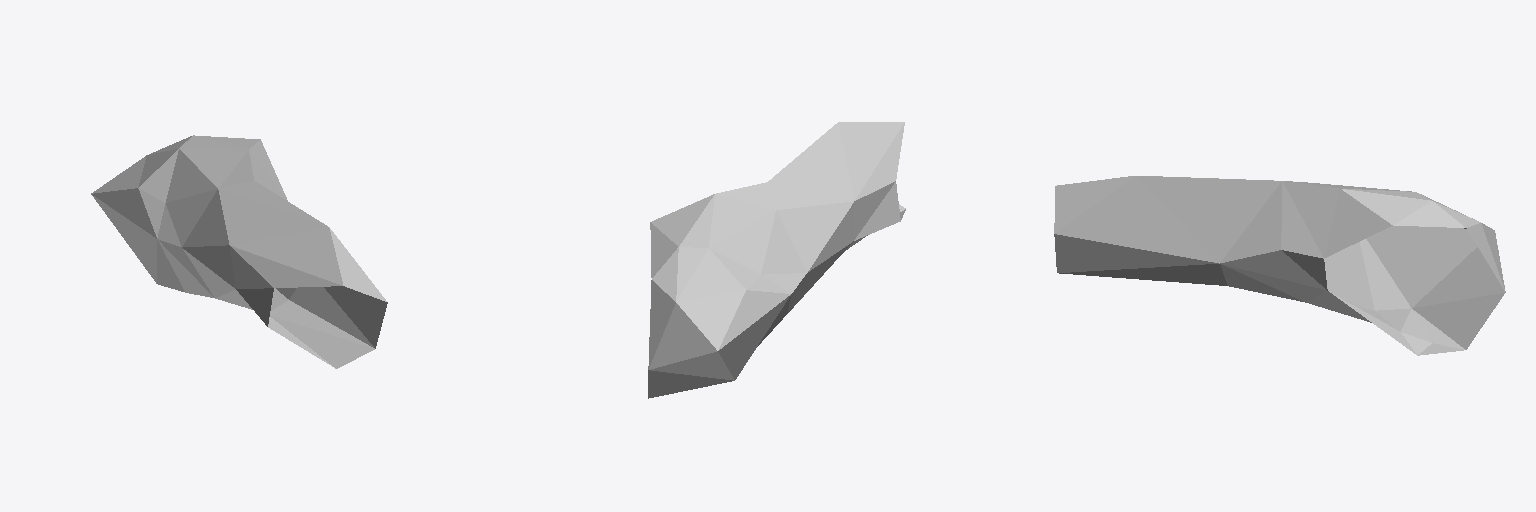
Rendered from arm-left.obj.
3 views of the same model, side by side, from view 1: azimuth 30°, elevation 25°; view 2: azimuth 150°, elevation 25°; view 3: azimuth 270°, elevation 25° (orthographic).
Visible parts, largest first — view 1: arm_left.001_Superhot_Enemy_Stl.018; view 2: arm_left.001_Superhot_Enemy_Stl.018; view 3: arm_left.001_Superhot_Enemy_Stl.018.
Part boxes in pixels (left/top/right/bottom): arm_left.001_Superhot_Enemy_Stl.018: left=91, top=135, right=387, bottom=368; arm_left.001_Superhot_Enemy_Stl.018: left=648, top=122, right=905, bottom=398; arm_left.001_Superhot_Enemy_Stl.018: left=1054, top=176, right=1505, bottom=355.
Bounding box in the file's own units: 9.52 × 12.06 × 30.38.